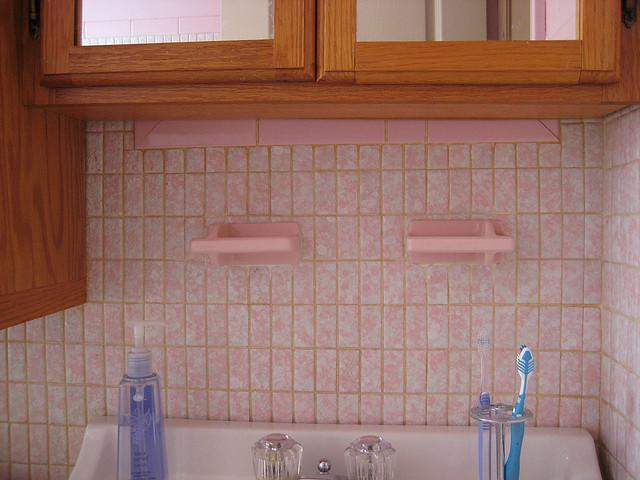Lavamanos: (87, 411, 599, 479)
